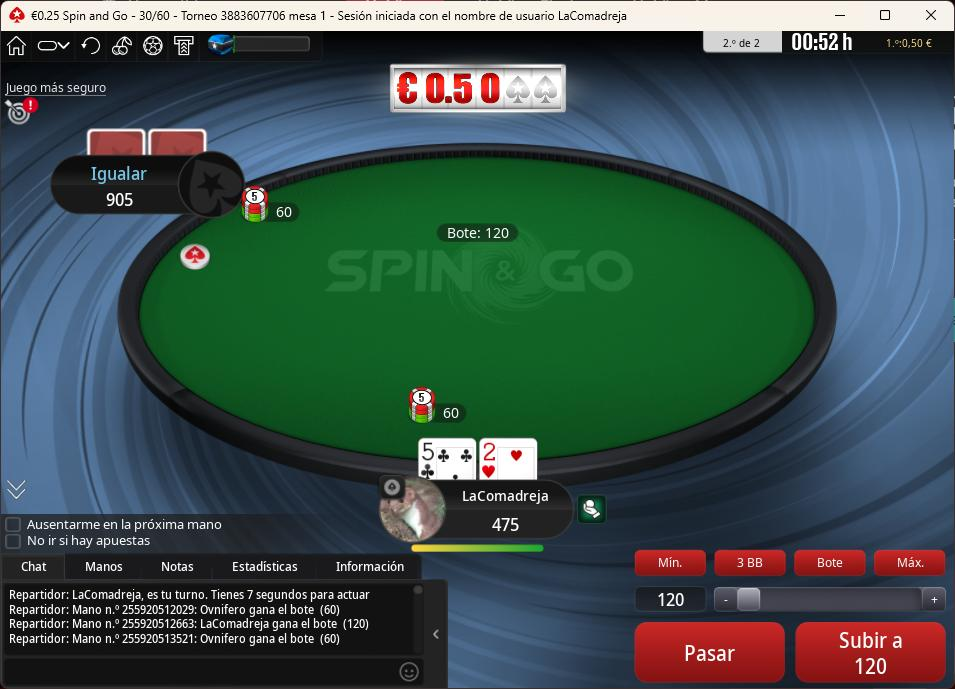ButtonCall: (626, 616, 785, 687)
ButtonFold: (636, 621, 788, 683)
ButtonMaxRaise: (875, 549, 947, 578)
ButtonMinRaise: (635, 550, 707, 578)
ButtonPotRaise: (794, 551, 868, 578)
ButtonRaise: (796, 623, 946, 684)
Dealer: (179, 242, 215, 270)
HiddenCards: (89, 127, 205, 154)
Player: (51, 153, 246, 219)
PlayerBet: (241, 188, 303, 227)
PlayerChips: (485, 520, 532, 537), (98, 192, 140, 209)
Pot: (435, 218, 522, 246)
PrincipalBet: (404, 382, 470, 426)
PrincipalCards: (415, 438, 538, 480)
PrincipalCards1: (414, 436, 477, 483)
PrincipalCards2: (479, 436, 543, 482)
PrincipalPlayer: (377, 470, 575, 545)
SmallBigBlind: (129, 4, 179, 25)
